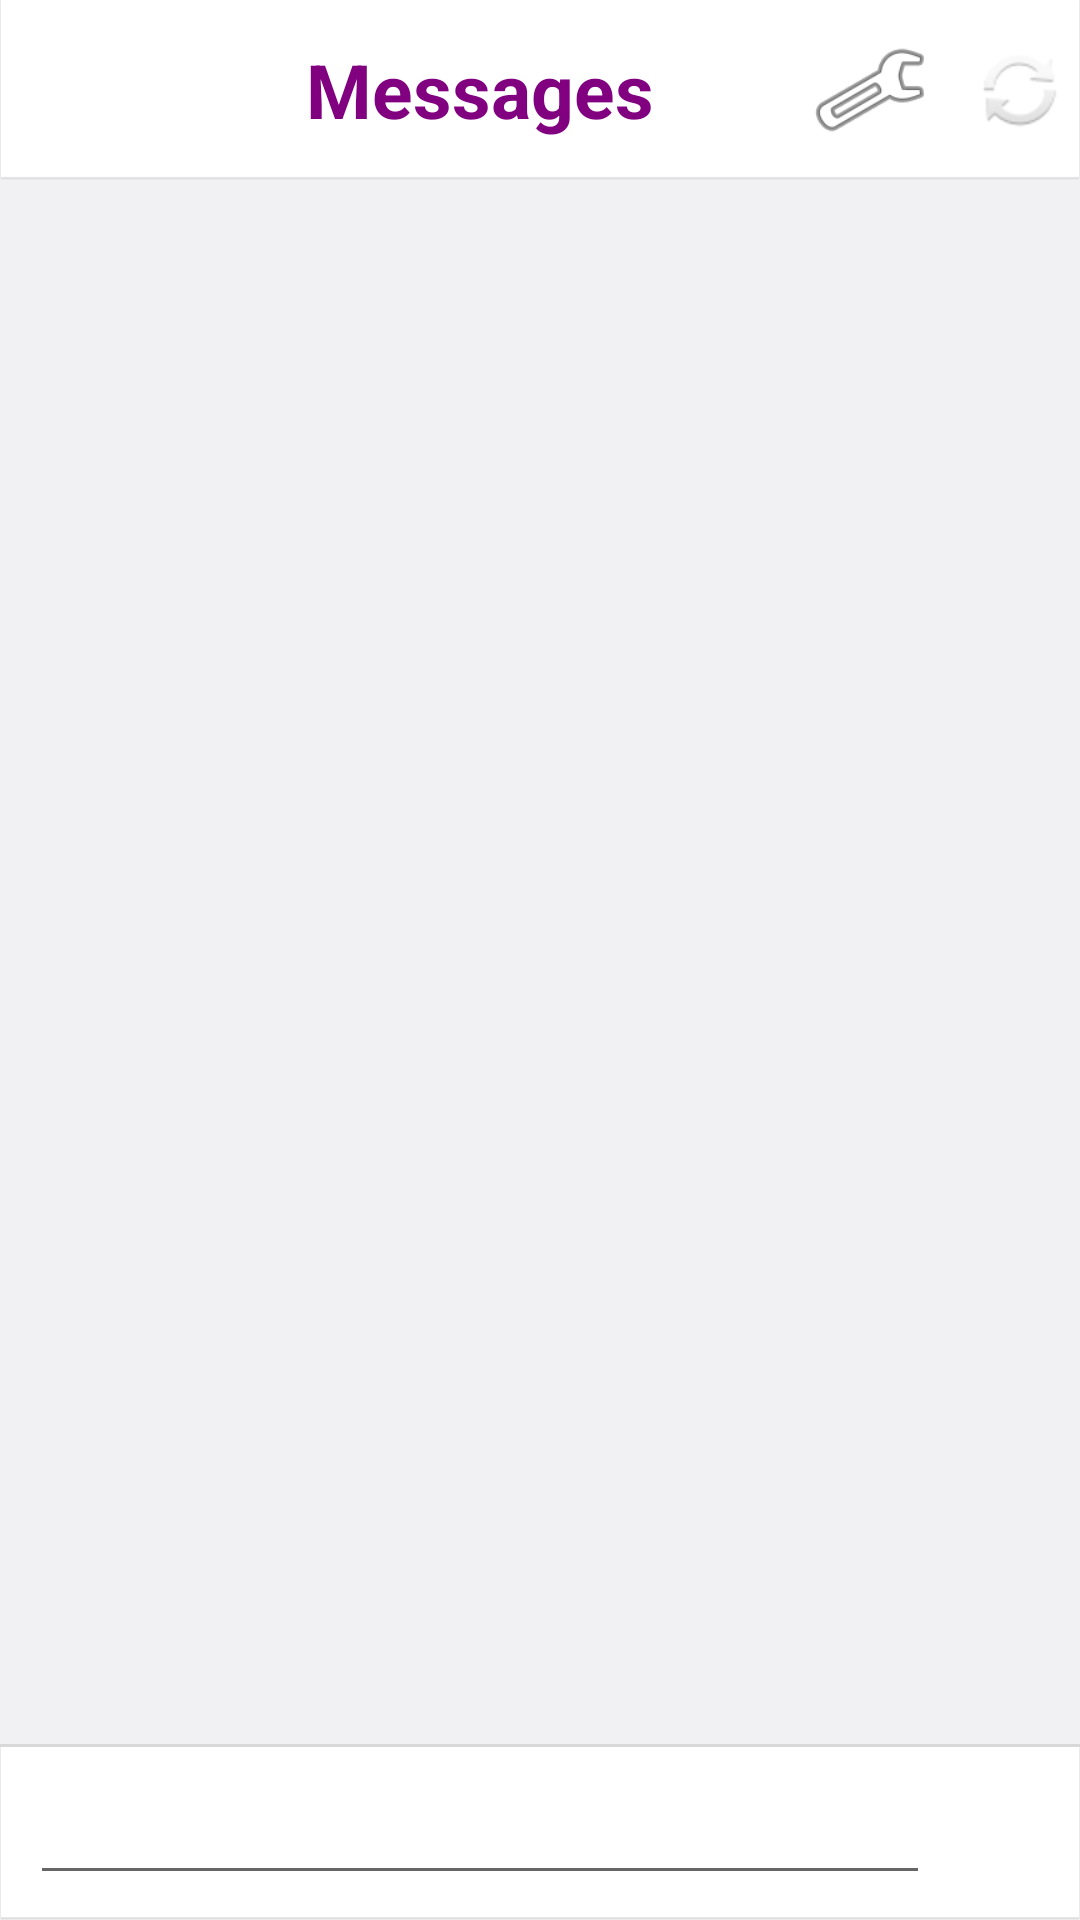

Icon click points for this 1080px×1920px phone screenshot, format [x,y]:
popup sync: [1019,94]
preferences: [870,90]
